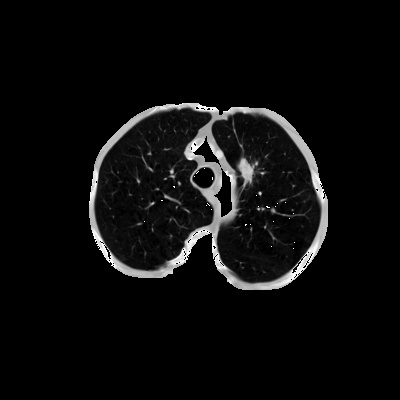PN: (235, 158, 259, 182)
